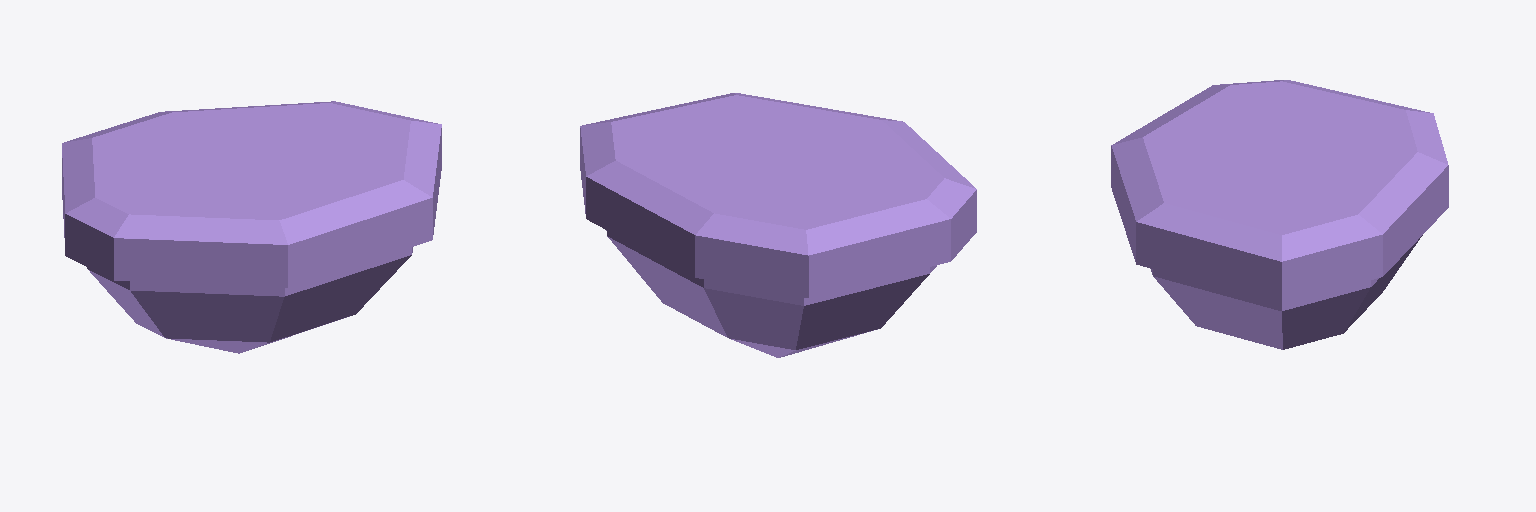
The model's file is land5.obj.
3 views of the same model, side by side, from view 1: azimuth 30°, elevation 25°; view 2: azimuth 150°, elevation 25°; view 3: azimuth 270°, elevation 25° (orthographic).
Visible parts, largest first — view 1: g5, land5; view 2: g5, land5; view 3: g5, land5.
Part boxes in pixels (bbox=[...]): g5: bbox=[62, 101, 441, 287]; land5: bbox=[87, 247, 412, 353]; g5: bbox=[580, 93, 976, 297]; land5: bbox=[606, 230, 936, 357]; g5: bbox=[1111, 80, 1448, 303]; land5: bbox=[1150, 235, 1422, 349].
Size of the model in its own units: 45.07 by 22.3 by 35.22.